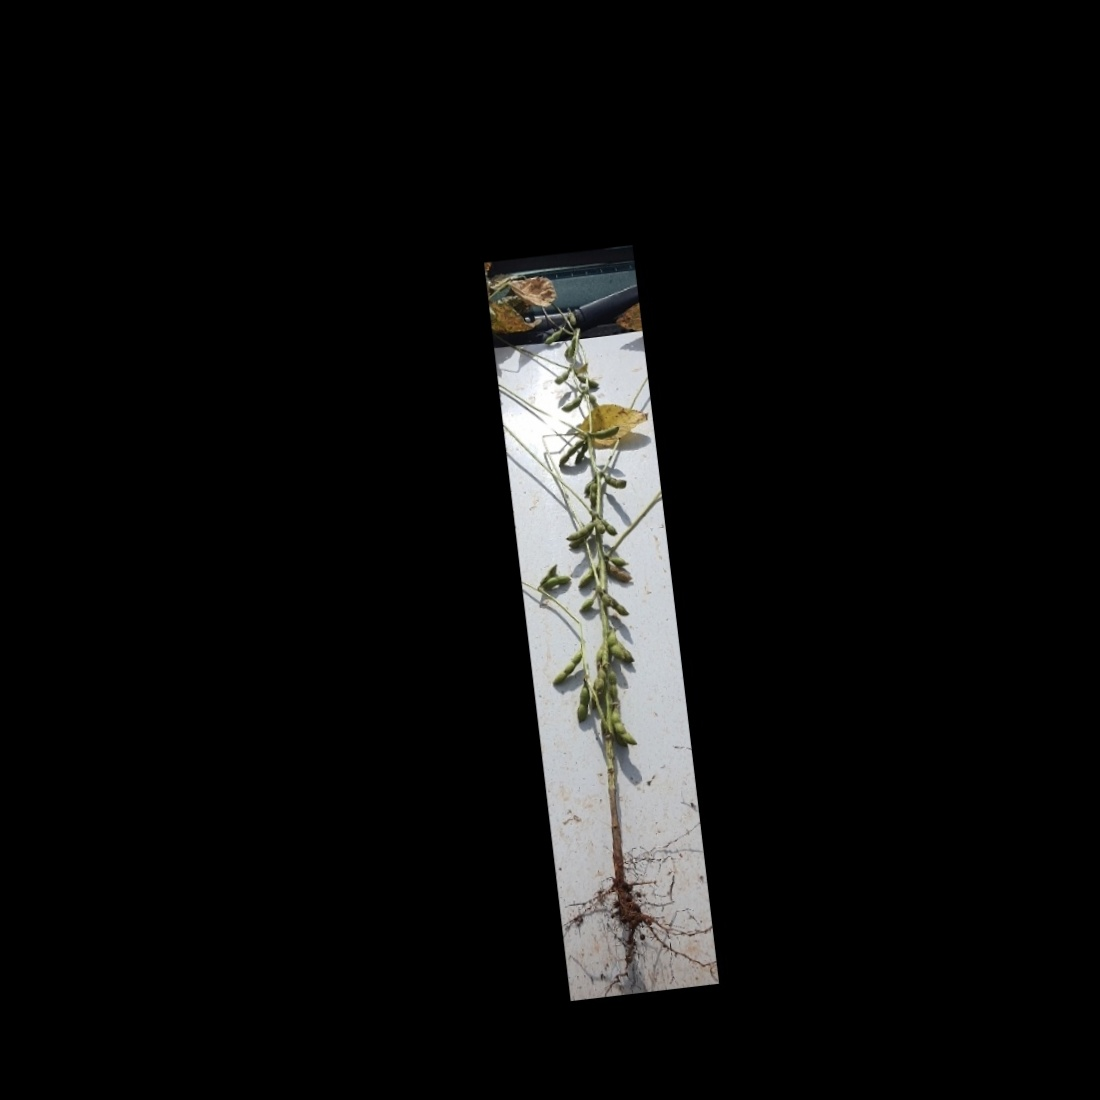pod: (547, 650, 586, 687), (609, 706, 639, 749), (571, 683, 594, 725), (555, 439, 583, 468), (563, 521, 595, 542), (541, 572, 574, 592), (557, 392, 585, 413), (575, 566, 597, 592), (588, 424, 621, 440), (602, 472, 629, 490), (577, 593, 598, 614), (606, 670, 620, 702), (585, 482, 599, 510), (542, 328, 565, 346), (552, 370, 571, 387), (565, 307, 580, 327), (565, 337, 578, 359)
soy: (503, 295, 702, 956)
